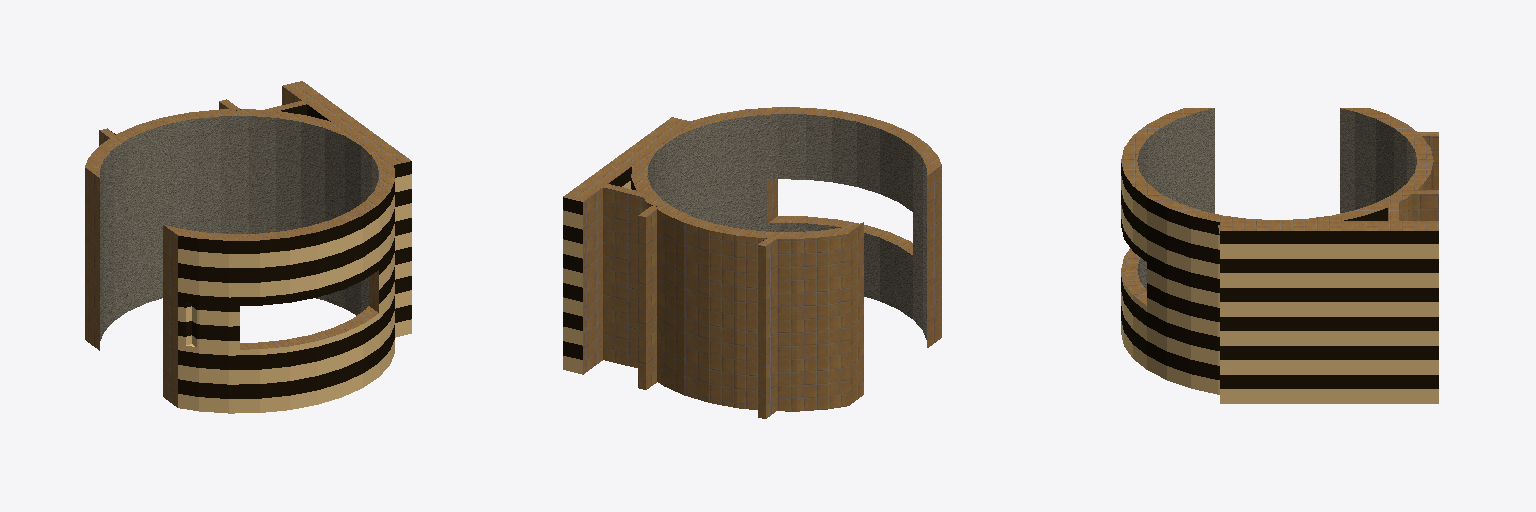
3 views of the same model, side by side, from view 1: azimuth 30°, elevation 25°; view 2: azimuth 150°, elevation 25°; view 3: azimuth 270°, elevation 25° (orthographic).
Parts seen in each view (by area): view 1: cafe_f1_Cube_Cube.001; view 2: cafe_f1_Cube_Cube.001; view 3: cafe_f1_Cube_Cube.001.
Boxes of the visible parts, x1,y1,x2,y2 form: cafe_f1_Cube_Cube.001: [85, 81, 411, 413]; cafe_f1_Cube_Cube.001: [563, 107, 941, 418]; cafe_f1_Cube_Cube.001: [1121, 108, 1438, 403].
Size of the model in its own units: 3.36 by 2.2 by 3.67.
4 materials, 3 textured.